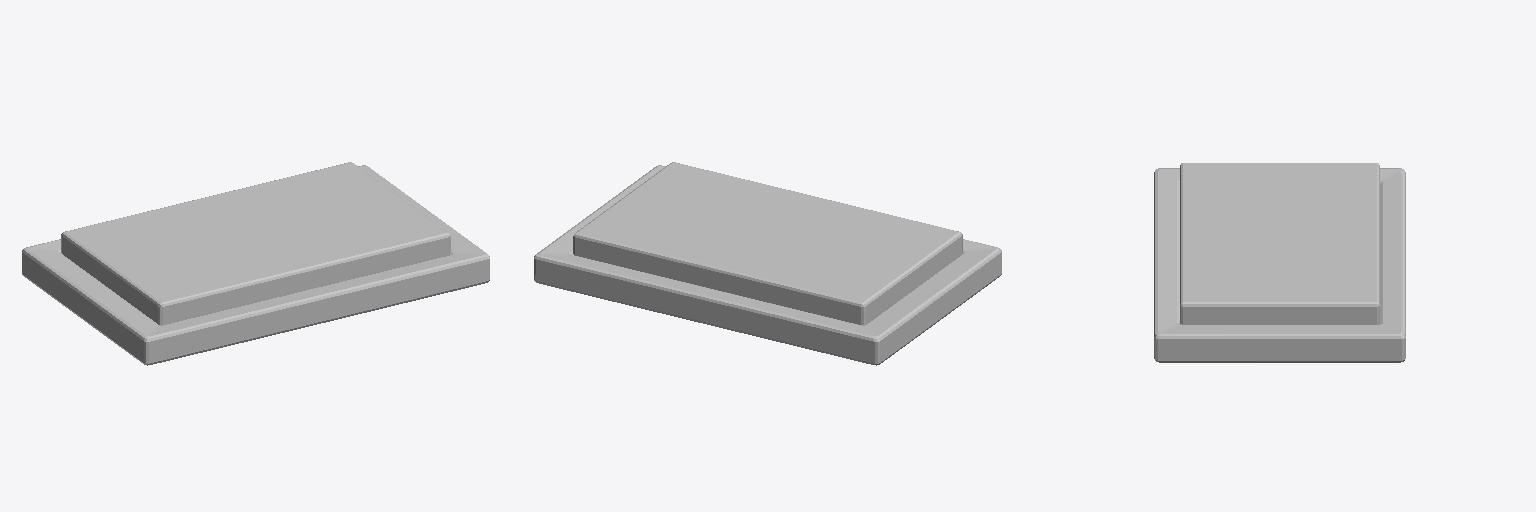
The model's file is pressure plate.obj.
3 views of the same model, side by side, from view 1: azimuth 30°, elevation 25°; view 2: azimuth 150°, elevation 25°; view 3: azimuth 270°, elevation 25° (orthographic).
Parts seen in each view (by area): view 1: polySurface16 group5, group5 polySurface15; view 2: polySurface16 group5, group5 polySurface15; view 3: polySurface16 group5, group5 polySurface15.
Boxes of the visible parts, box(x1,y1,x2,y2) form: polySurface16 group5: box(61, 162, 450, 324); group5 polySurface15: box(22, 165, 489, 365); polySurface16 group5: box(573, 162, 962, 324); group5 polySurface15: box(534, 165, 1001, 365); polySurface16 group5: box(1180, 163, 1379, 324); group5 polySurface15: box(1154, 168, 1405, 362).
Bounding box in the file's own units: 3.02 × 0.3934 × 1.9.